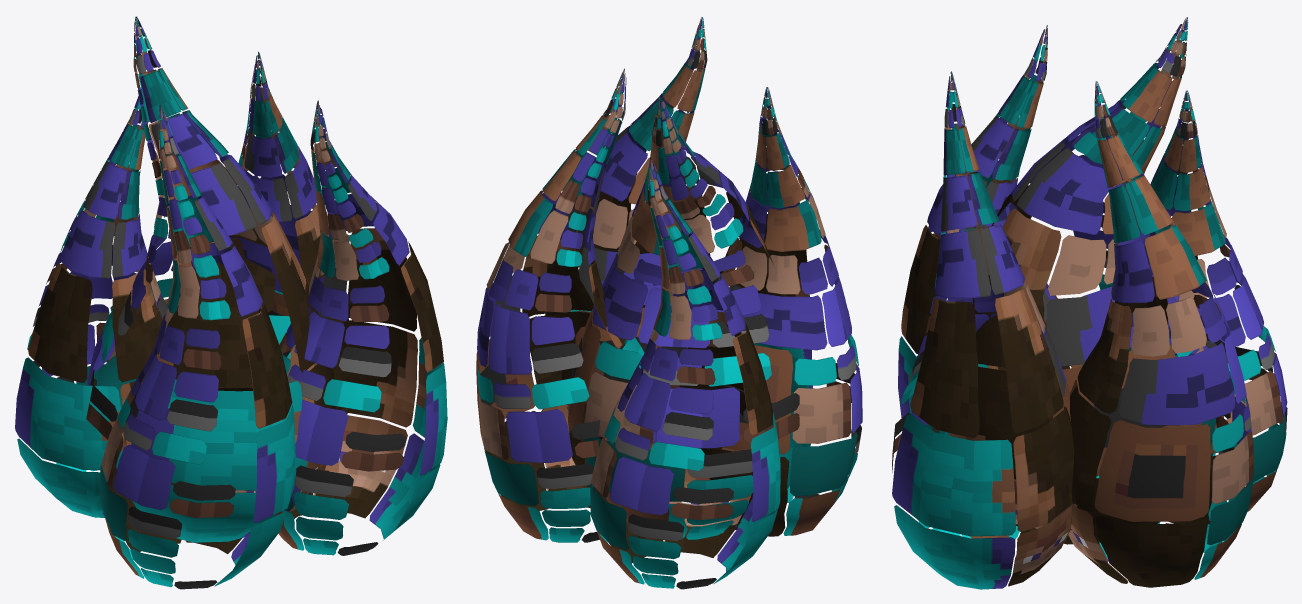
3 views of the same model, side by side, from view 1: azimuth 30°, elevation 25°; view 2: azimuth 150°, elevation 25°; view 3: azimuth 270°, elevation 25° (orthographic). The views are drawn at different scales.
Visible parts, largest first — view 1: flame_NurbsPath.015; view 2: flame_NurbsPath.015; view 3: flame_NurbsPath.015.
Part boxes in pixels (x1,y1,x2,y2): flame_NurbsPath.015: (15, 16, 447, 589); flame_NurbsPath.015: (476, 17, 862, 589); flame_NurbsPath.015: (892, 17, 1287, 589).
Size of the model in its own units: 0.7649 by 1.14 by 0.8002.
